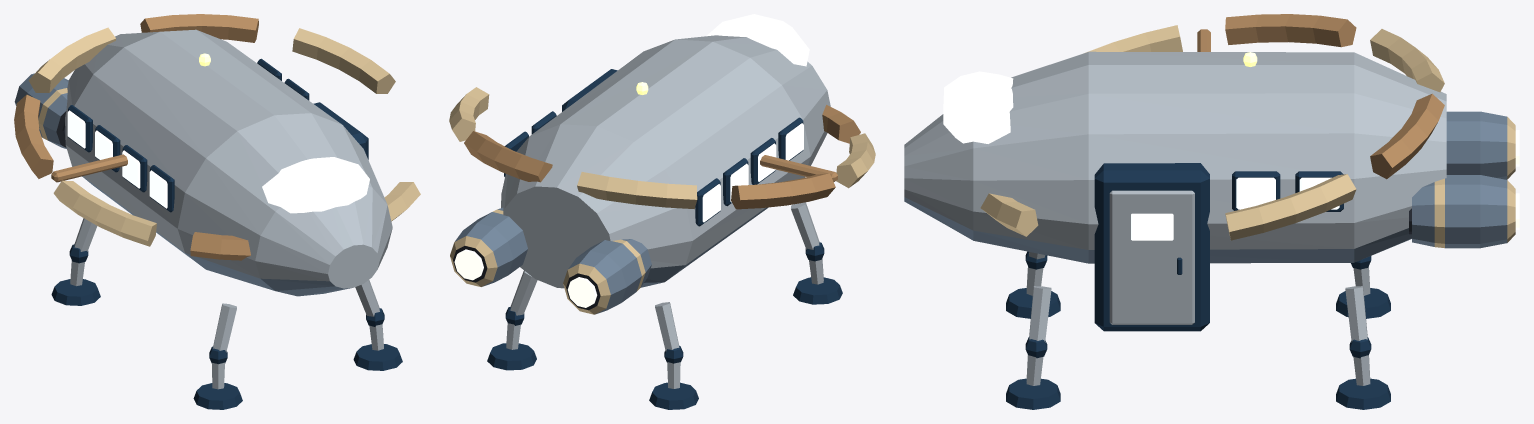
Rendered from rin-p_gelandet.glb.
3 renders of one model, left to right at view 1: azimuth 30°, elevation 25°; view 2: azimuth 150°, elevation 25°; view 3: azimuth 270°, elevation 25°, orthographic. The views are drawn at different scales.
Visible parts, largest first — view 1: kabine, ringsegmente, cockpit, fenster, landebein_2, landebein_1, landebein_4, triebwerk_r, ringstreben, türmodul; view 2: kabine, ringsegmente, triebwerk_r, triebwerk_l, fenster, cockpit, landebein_4, landebein_2, landebein_3, ringstreben, türmodul; view 3: kabine, ringsegmente, tür, türmodul, triebwerk_l, triebwerk_r, cockpit, landebein_1, landebein_3, fenster, landebein_2, landebein_4.
Boxes of the visible parts, x1,y1,x2,y2 form: kabine: (65, 29, 392, 296); ringsegmente: (14, 14, 420, 260); cockpit: (262, 157, 369, 213); fenster: (67, 58, 309, 212); landebein_2: (193, 303, 242, 409); landebein_1: (353, 280, 402, 370); landebein_4: (51, 218, 100, 305); triebwerk_r: (14, 73, 68, 148); ringstreben: (51, 154, 127, 182); türmodul: (313, 102, 368, 159); kabine: (501, 35, 830, 288); ringsegmente: (449, 87, 875, 209); triebwerk_r: (563, 239, 651, 314); triebwerk_l: (450, 207, 527, 286); fenster: (504, 111, 803, 226); cockpit: (706, 14, 809, 66); landebein_4: (649, 302, 698, 409); landebein_2: (791, 202, 842, 304); landebein_3: (487, 270, 537, 370); ringstreben: (760, 155, 837, 181); türmodul: (562, 69, 617, 111); kabine: (904, 51, 1446, 263); ringsegmente: (980, 14, 1444, 240); tür: (1109, 190, 1194, 324); türmodul: (1094, 163, 1209, 331); triebwerk_l: (1409, 175, 1519, 248); triebwerk_r: (1446, 111, 1519, 179); cockpit: (943, 71, 1013, 143); landebein_1: (1006, 286, 1060, 409); landebein_3: (1336, 286, 1390, 409); fenster: (1232, 171, 1343, 211); landebein_2: (1006, 251, 1060, 318); landebein_4: (1336, 256, 1390, 318).
Size of the model in its own units: 0.1059 by 0.0718 by 0.1334.
